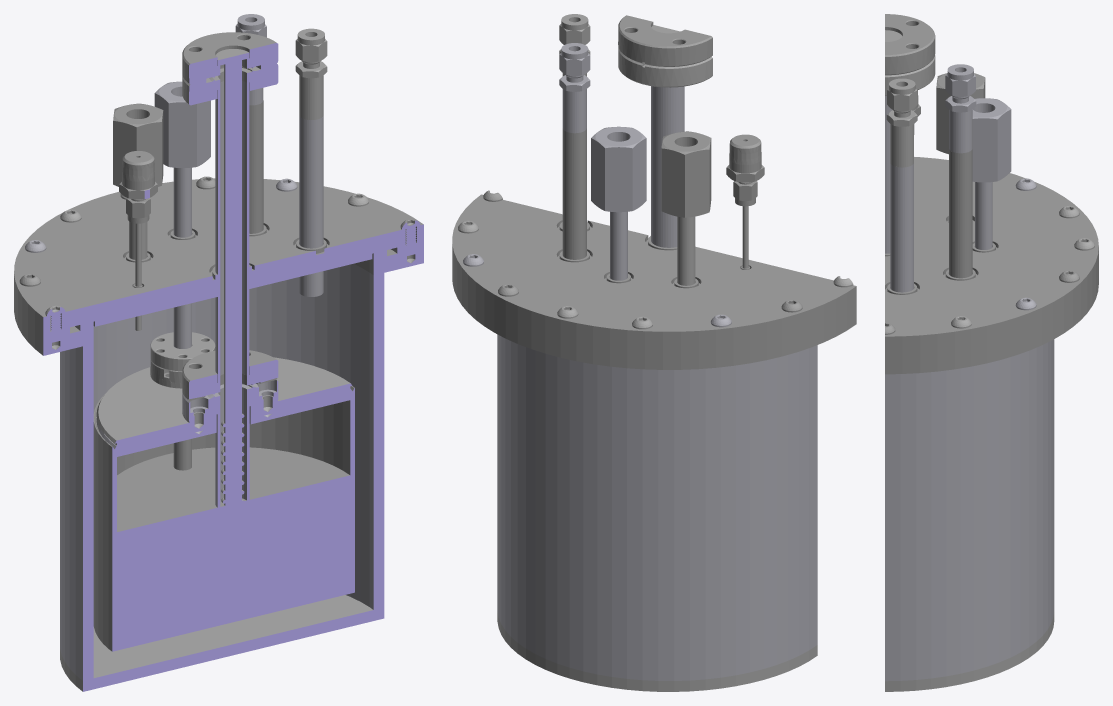
Rendered from baby_100ml_cutaway.glb.
The picture shows the model from 3 angles, left to right: view 1: azimuth 30°, elevation 25°; view 2: azimuth 150°, elevation 25°; view 3: azimuth 270°, elevation 25°; orthographic projection. The views are drawn at different scales.
Visible parts, largest first — view 1: geometry_59, geometry_12, geometry_52, geometry_67, geometry_11, geometry_39, geometry_60, geometry_53, geometry_63, geometry_57, geometry_19, geometry_34 (+24 smaller); view 2: geometry_59, geometry_52, geometry_61, geometry_34, geometry_36, geometry_57, geometry_28, geometry_50, geometry_25, geometry_24, geometry_21, geometry_48 (+3 smaller); view 3: geometry_59, geometry_52, geometry_61, geometry_34, geometry_19, geometry_25, geometry_28, geometry_24, geometry_20, geometry_57, geometry_31, geometry_36 (+2 smaller).
Boxes of the visible parts, <box> form: geometry_59: <box>60,264,373,680</box>; geometry_12: <box>117,475,350,645</box>; geometry_52: <box>14,178,423,333</box>; geometry_67: <box>93,386,354,651</box>; geometry_11: <box>117,447,349,531</box>; geometry_39: <box>218,53,249,590</box>; geometry_60: <box>83,273,384,680</box>; geometry_53: <box>43,224,423,333</box>; geometry_63: <box>96,357,350,445</box>; geometry_57: <box>60,595,372,691</box>; geometry_19: <box>299,116,323,296</box>; geometry_34: <box>154,81,210,168</box>; geometry_59: <box>497,334,817,680</box>; geometry_52: <box>452,194,856,348</box>; geometry_61: <box>452,260,856,369</box>; geometry_34: <box>591,126,646,212</box>; geometry_36: <box>661,131,711,217</box>; geometry_57: <box>497,611,817,691</box>; geometry_28: <box>618,15,712,66</box>; geometry_50: <box>651,86,684,247</box>; geometry_25: <box>562,128,586,259</box>; geometry_24: <box>559,43,590,133</box>; geometry_21: <box>726,134,764,206</box>; geometry_48: <box>618,47,712,87</box>; geometry_59: <box>885,339,1054,681</box>; geometry_52: <box>885,157,1098,352</box>; geometry_61: <box>885,263,1098,374</box>; geometry_34: <box>972,98,1011,182</box>; geometry_19: <box>890,163,913,292</box>; geometry_25: <box>949,149,972,278</box>; geometry_28: <box>885,14,935,75</box>; geometry_24: <box>945,64,976,153</box>; geometry_20: <box>886,78,917,167</box>; geometry_57: <box>885,612,1054,691</box>; geometry_31: <box>975,182,992,249</box>; geometry_36: <box>936,73,985,154</box>.
Bounding box in the file's own units: 0.2286 × 0.3455 × 0.1143.
